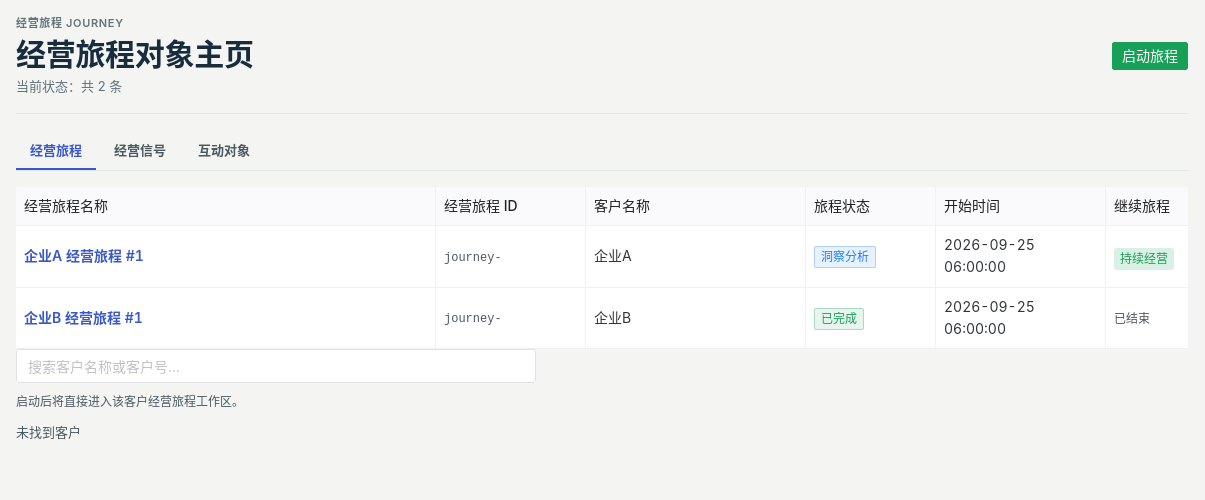
Test case: P45 JourneyListView（经营旅程列表） › surfaces a named start error and stays on the list when starting fails
The width and height of the screenshot is (1205, 500).
Click the button with test id "p45-start-journey": x=1150, y=56 top-left (1112, 42), bottom-right (1188, 70)
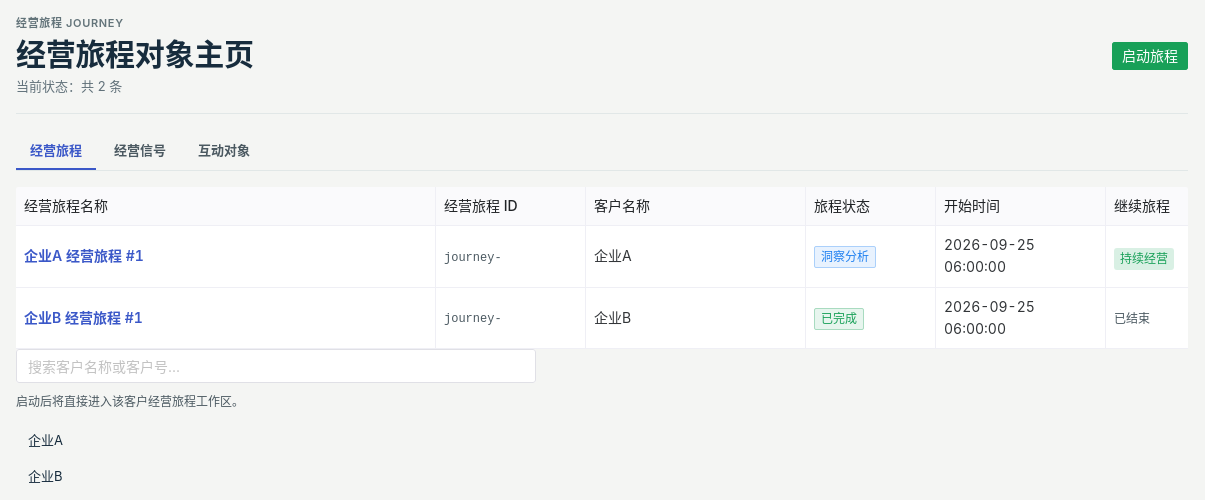
Click the element with test id "p45-pick-c1": x=46, y=440 top-left (28, 432), bottom-right (63, 448)
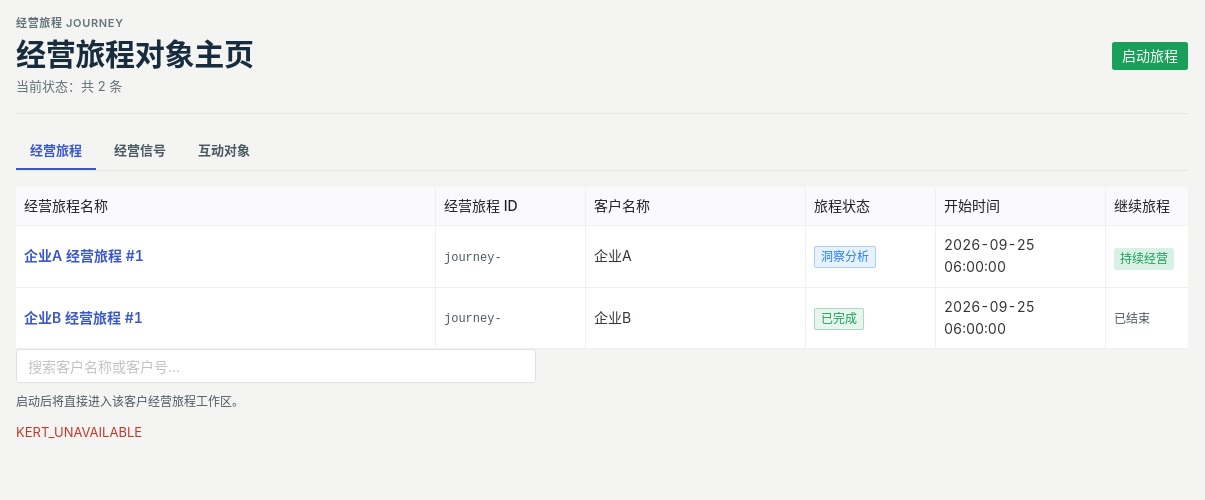
Expected: the text with test id "p45-start-error" reads "KERT_UNAVAILABLE", top-left (16, 424), bottom-right (142, 440)
